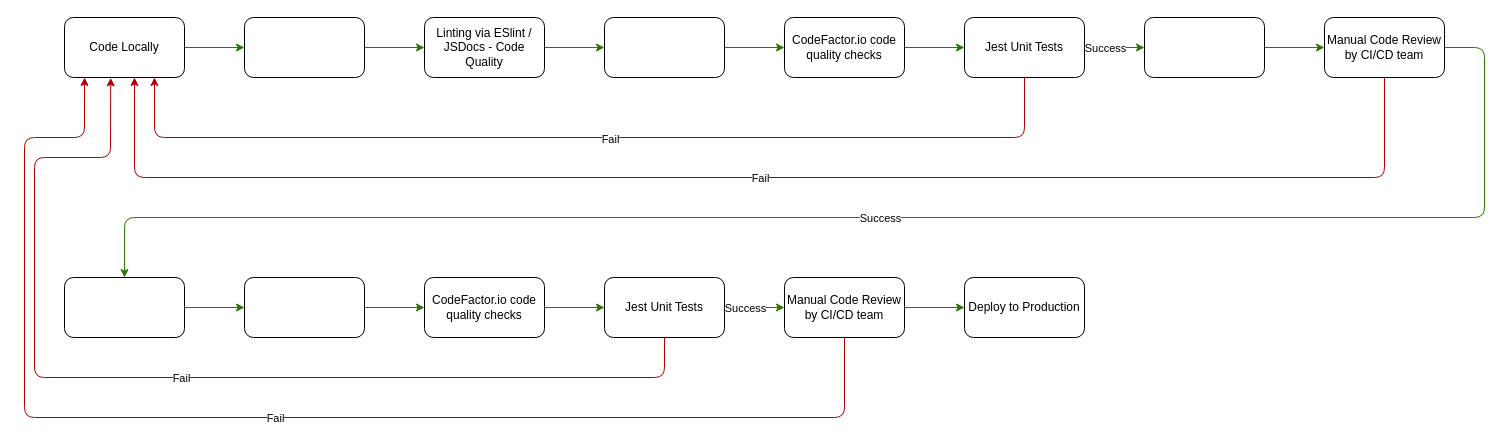
Some shapes in this 1510 by 443 pixel diagram are drawn without their labels. Here are the shapes that lost their labels. From the top down, the centre of each, then its label:
At (304,47): "Commit on respective branch (front-end, back-end, repo-build)".
At (664,47): "Push to respective branch".
At (1204,47): "Pull Request to merge to main".
At (124,307): "Merge to main".
At (304,307): "Linting via ESlint - Code Quality".
